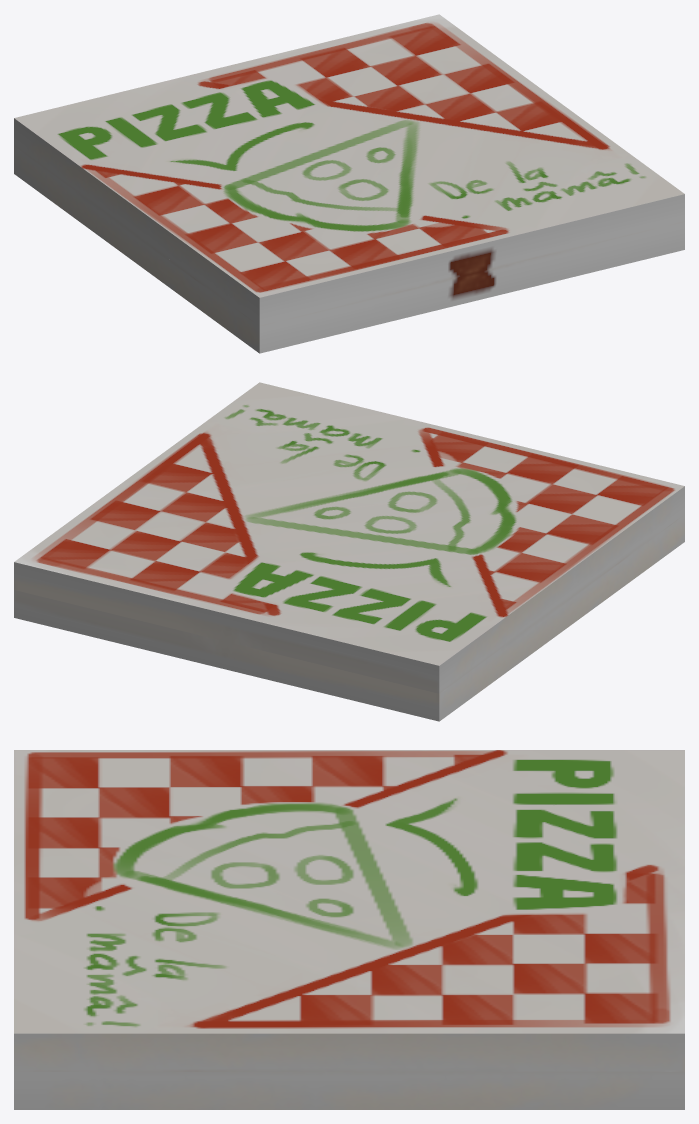
Rendered from pizzabox.fbx.
The picture shows the model from 3 angles, top to bottom: view 1: azimuth 30°, elevation 25°; view 2: azimuth 150°, elevation 25°; view 3: azimuth 270°, elevation 25°; orthographic projection. The views are drawn at different scales.
Visible parts, largest first — view 1: Cube.003, pizzabox; view 2: Cube.003, pizzabox; view 3: Cube.003, pizzabox.
Boxes of the visible parts, left/top/right/bottom form: Cube.003: left=14, top=14, right=684, bottom=325; pizzabox: left=14, top=146, right=684, bottom=353; Cube.003: left=14, top=382, right=684, bottom=693; pizzabox: left=14, top=514, right=684, bottom=721; Cube.003: left=14, top=750, right=684, bottom=1071; pizzabox: left=14, top=1071, right=684, bottom=1109.
Bounding box in the file's own units: 48.59 × 6.09 × 48.59.
